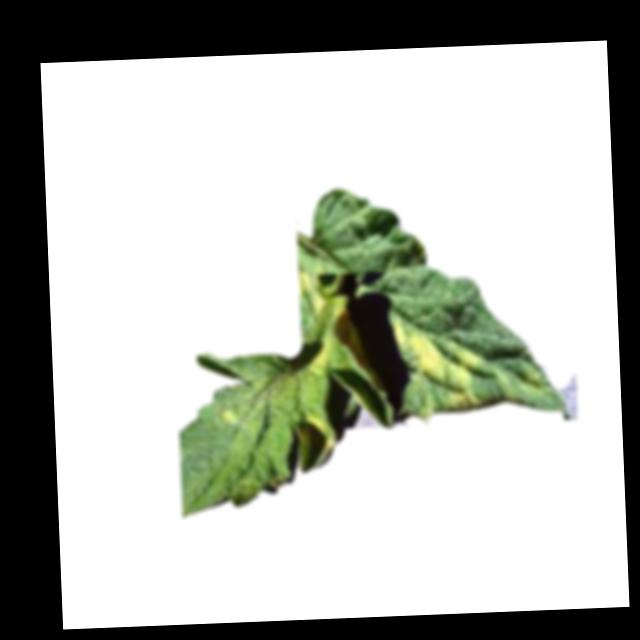Leaf_Mold: (391, 306, 485, 418), (299, 267, 377, 376), (303, 409, 332, 438)
